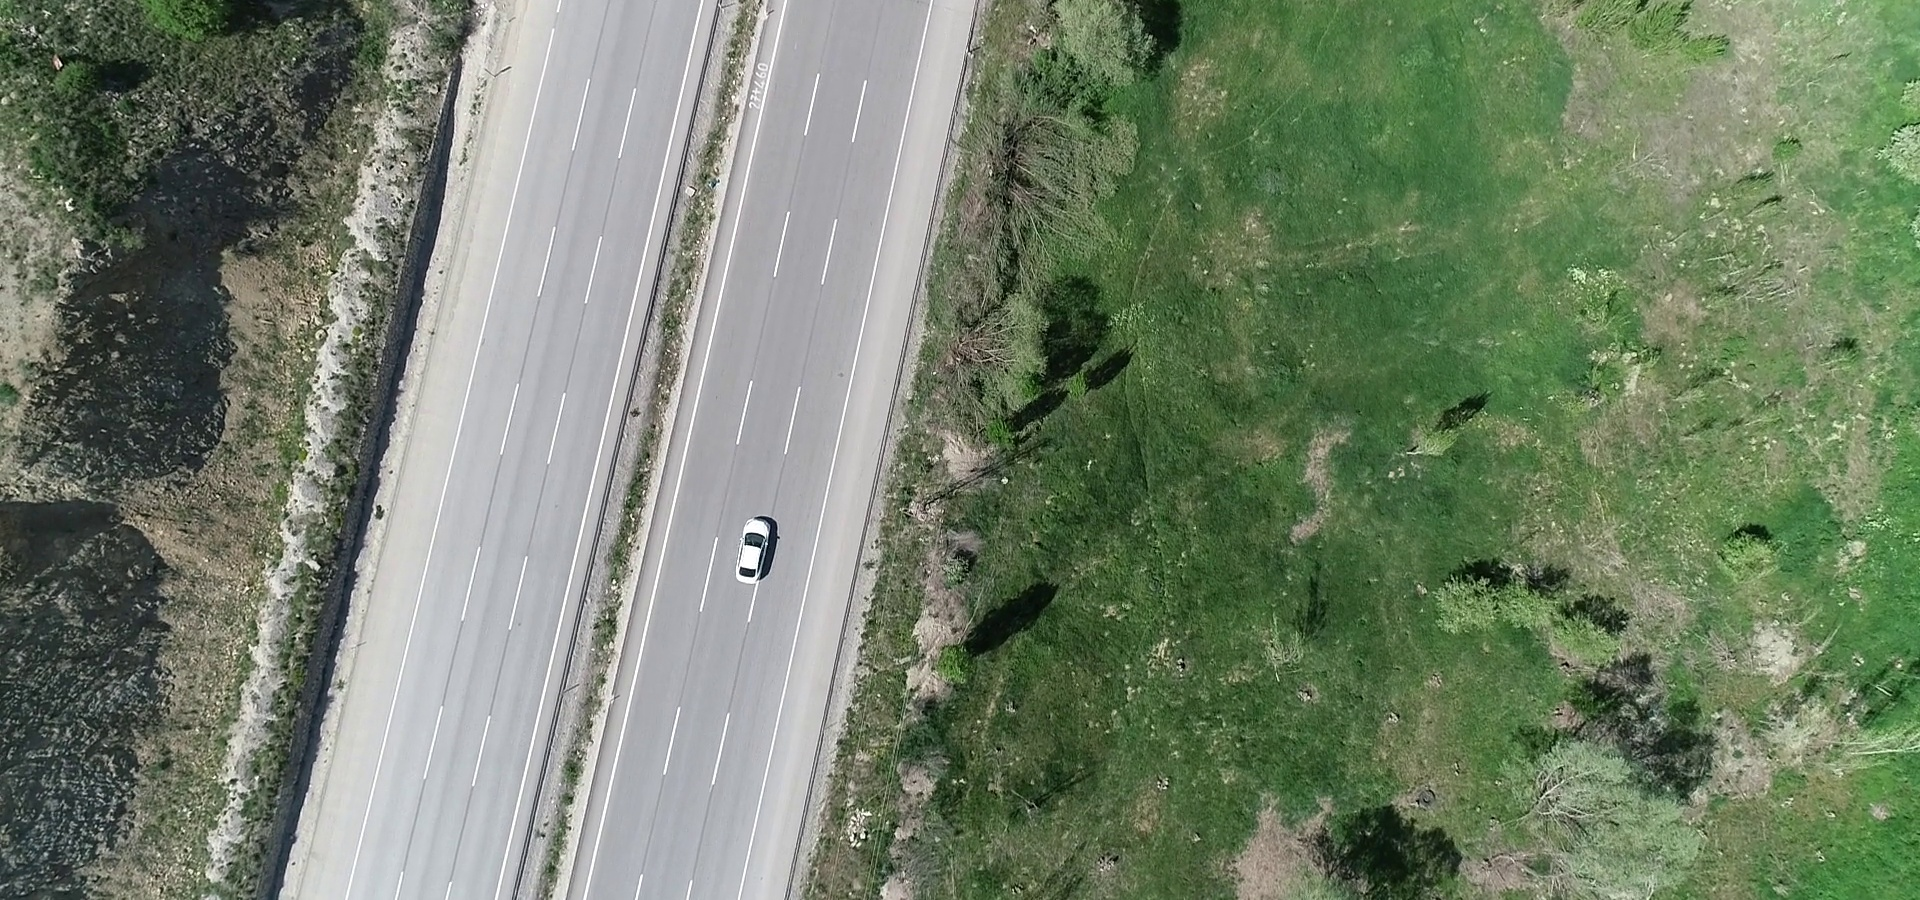arac: (733, 506, 775, 595)
